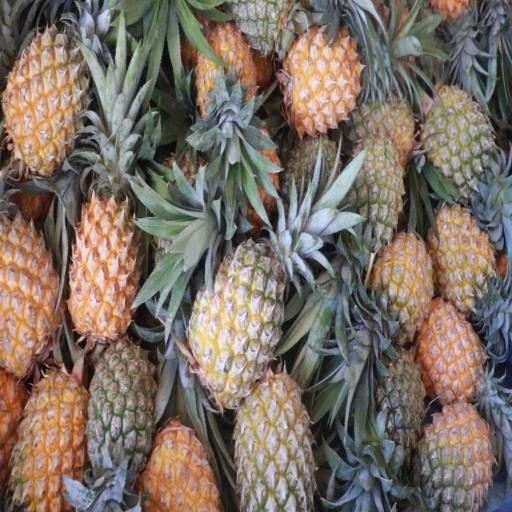------------------------------: (190, 246, 281, 402), (242, 366, 316, 512)
Pineapple - v8 v1: (2, 29, 85, 167), (12, 367, 86, 512), (71, 194, 140, 349), (0, 204, 65, 366), (291, 33, 368, 132), (433, 203, 496, 318), (426, 300, 492, 403), (143, 420, 215, 512), (374, 236, 429, 348), (200, 28, 260, 124)
